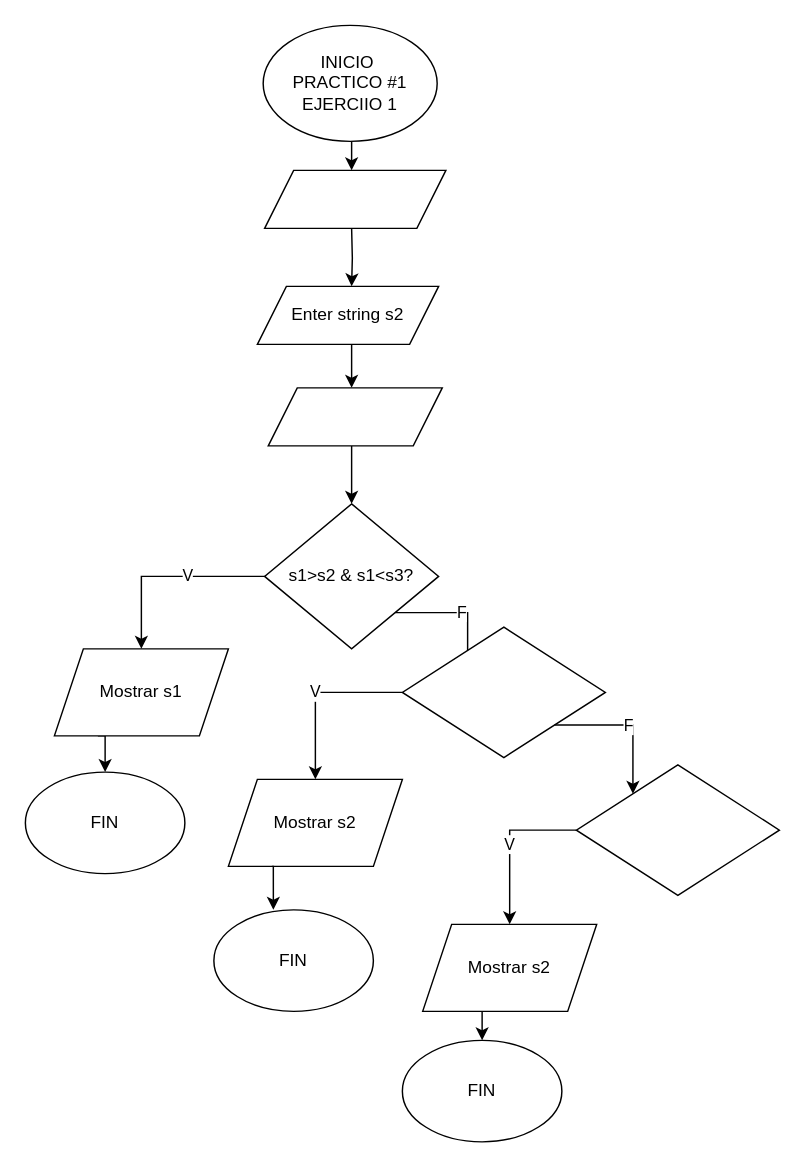
Image size: 805x1167. Some labels were removed from this diagram. The centre of each missing label's shape, as x and y in pixels:
"Enter string s1" belongs at [354,198].
"Enter string s3" belongs at [354,416].
"s2>s1 & s2>s3?" belongs at [503,692].
"s3>s1 & s3>s2?" belongs at [677,829].
